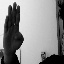b: (2, 1, 26, 56)
